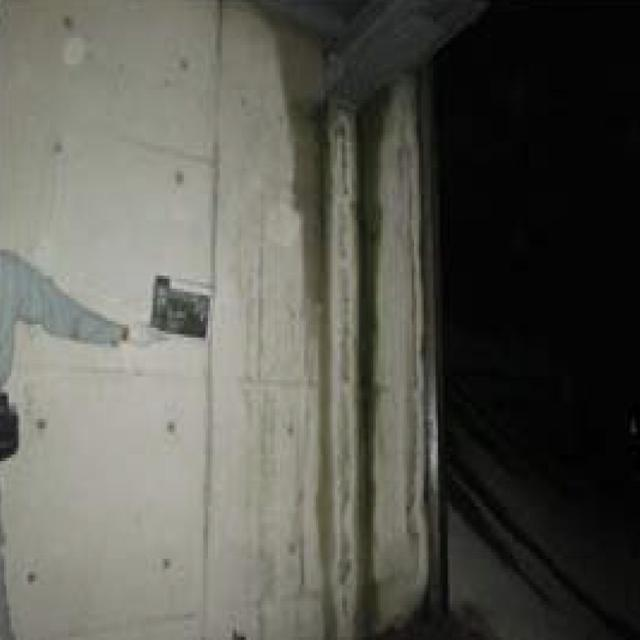leakage: (267, 3, 432, 631)
